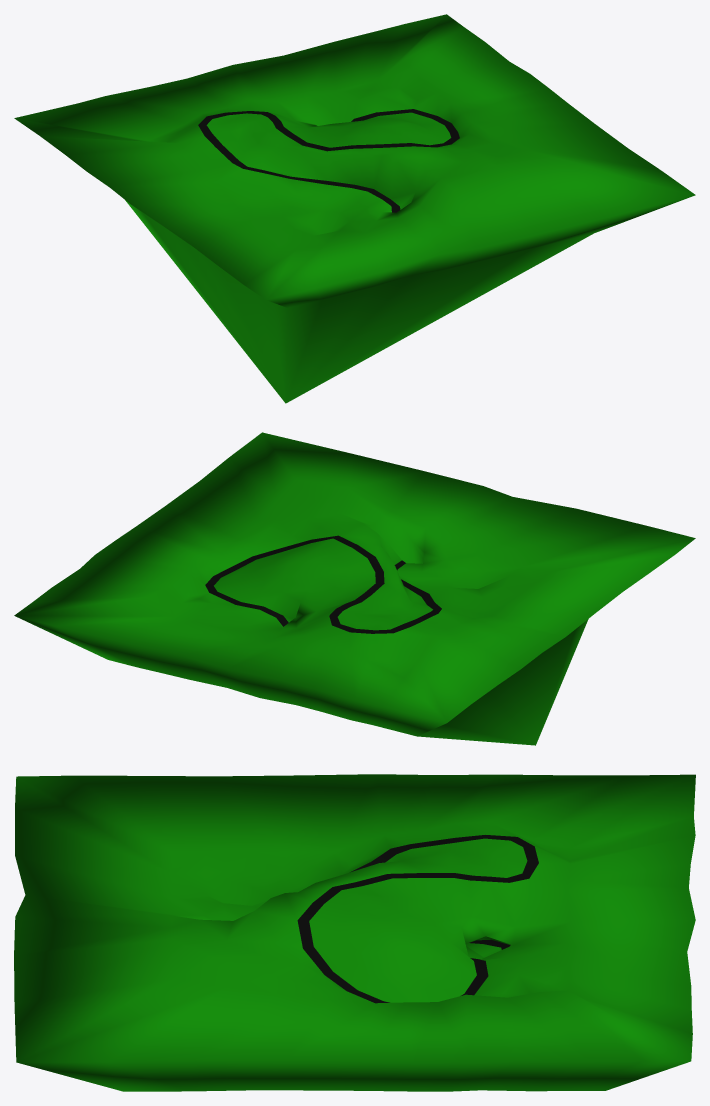
File: terrain.obj
The picture shows the model from 3 angles, top to bottom: view 1: azimuth 30°, elevation 25°; view 2: azimuth 150°, elevation 25°; view 3: azimuth 270°, elevation 25°; orthographic projection. The views are drawn at different scales.
Parts seen in each view (by area): view 1: Plane.002; view 2: Plane.002; view 3: Plane.002.
Boxes of the visible parts, x1,y1,x2,y2 form: Plane.002: [14, 14, 695, 403]; Plane.002: [14, 432, 695, 745]; Plane.002: [14, 774, 695, 1091].
Size of the model in its own units: 2647 by 1151 by 2647.
